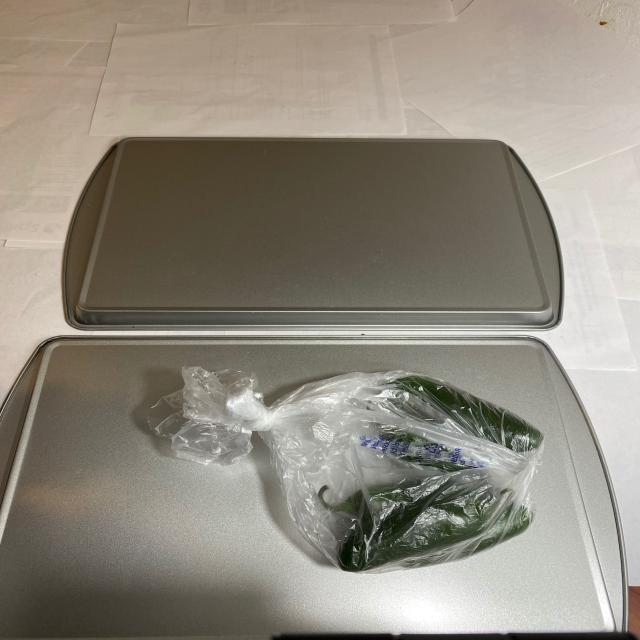chilli: (311, 374, 544, 575)
